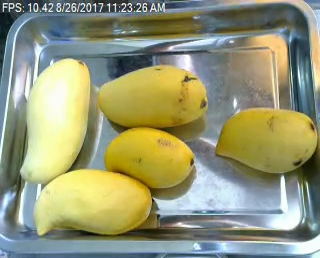Mango: (20, 56, 92, 183), (33, 168, 153, 235), (100, 65, 209, 127), (217, 106, 316, 173), (104, 127, 193, 189)
